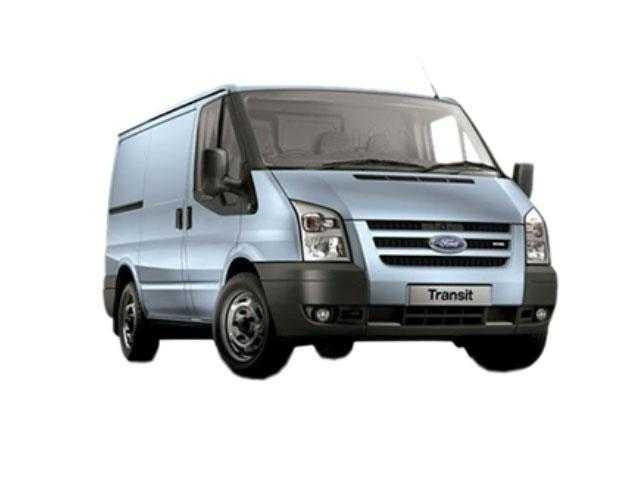car: (91, 77, 560, 392)
